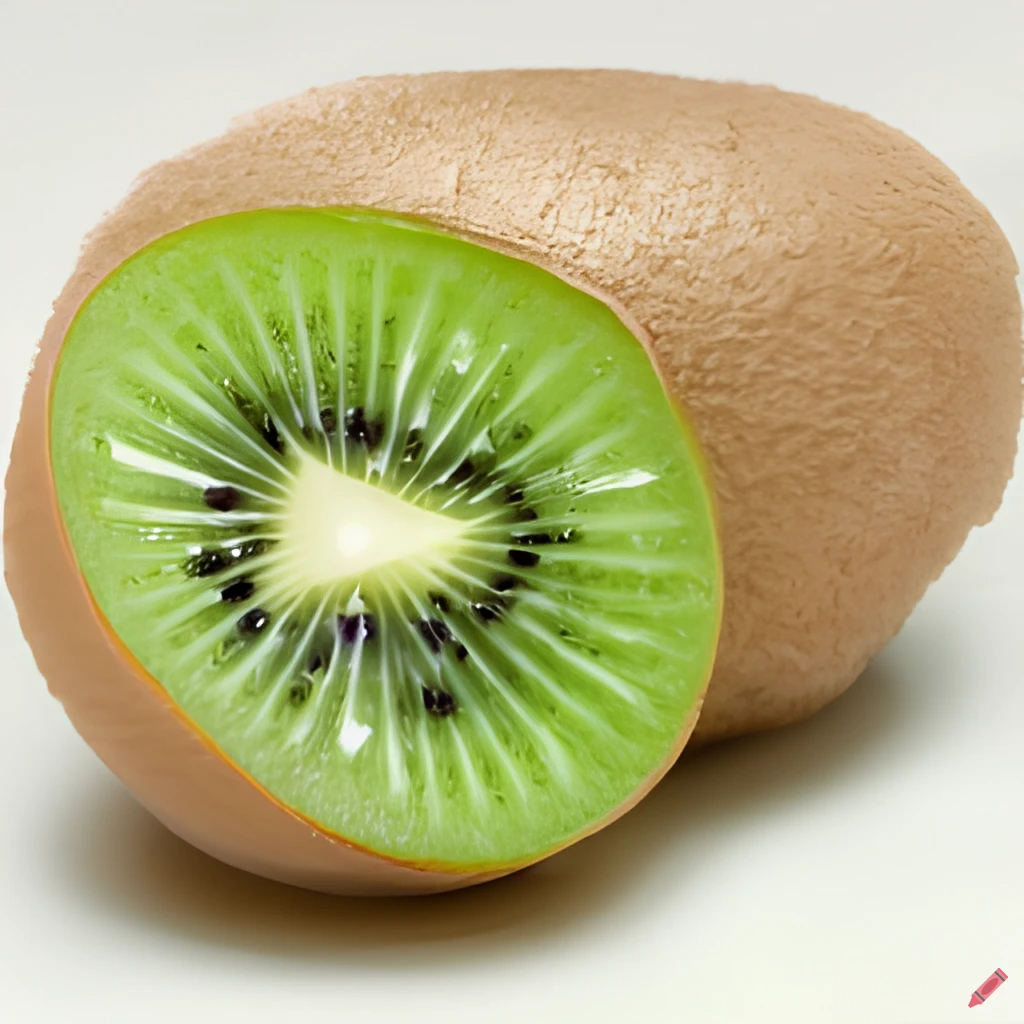Kiwi: (11, 187, 716, 926)
